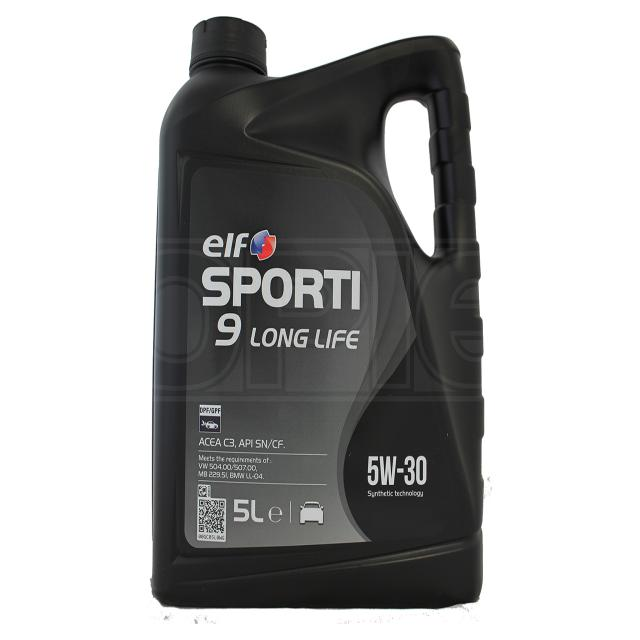motor_oil: (149, 14, 499, 615)
